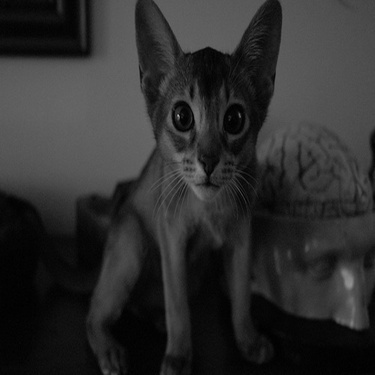cat: (27, 6, 297, 354)
